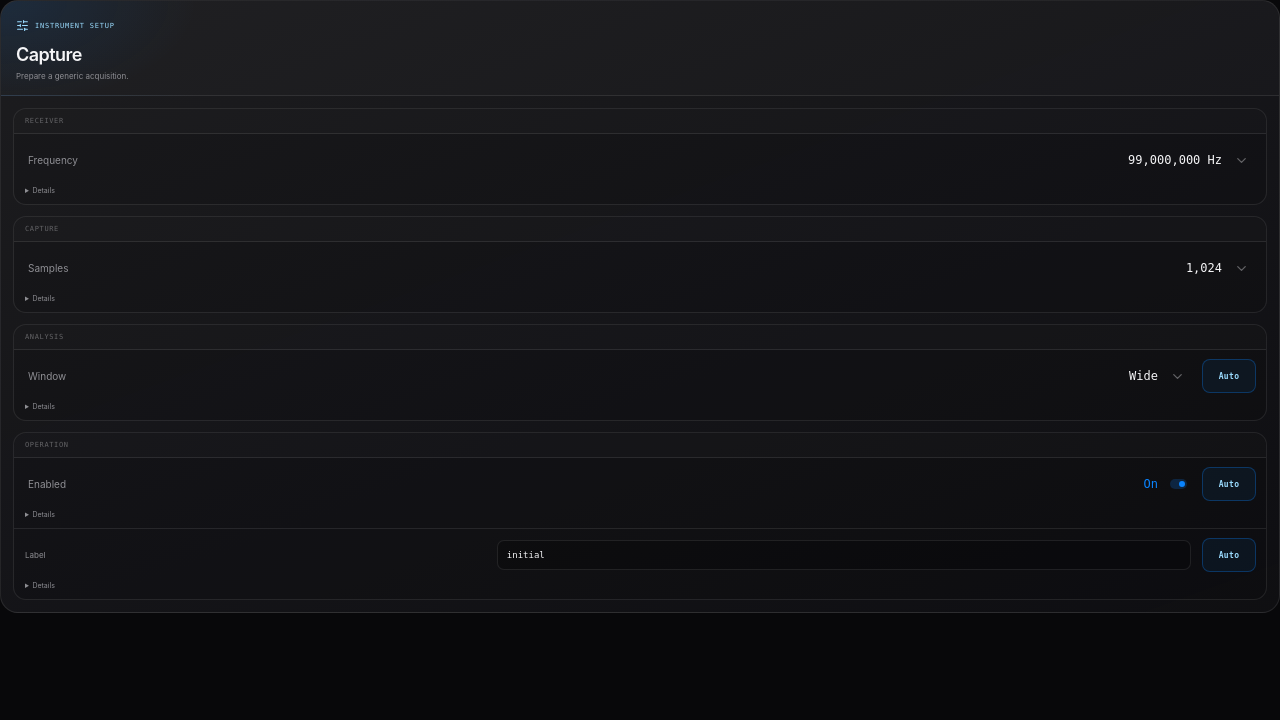
Scenario: canonical operation panel › opens the visible value directly, without mode framing or an outer apply action
Check: the label labelled "Window" is shown, box [28,368,1185,384]
Check: the button named "EnabledOn" is shown, box [14,458,1202,510]
What coordinates should you click on to do the following:
click the heading named "Edit Frequency"
I would click on:
 (53, 160)
Its box is [28,152,1249,168].
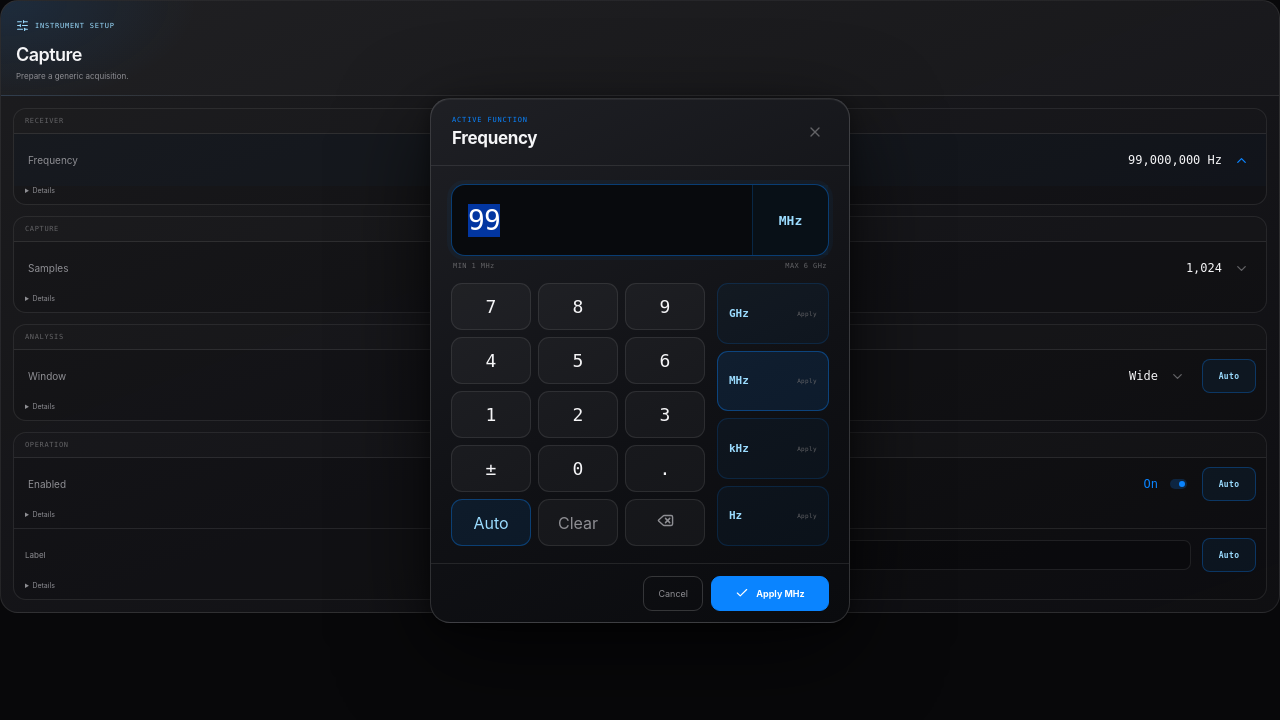
Check: the dialog named "Frequency numeric entry" is shown, box [430,98,850,623]
